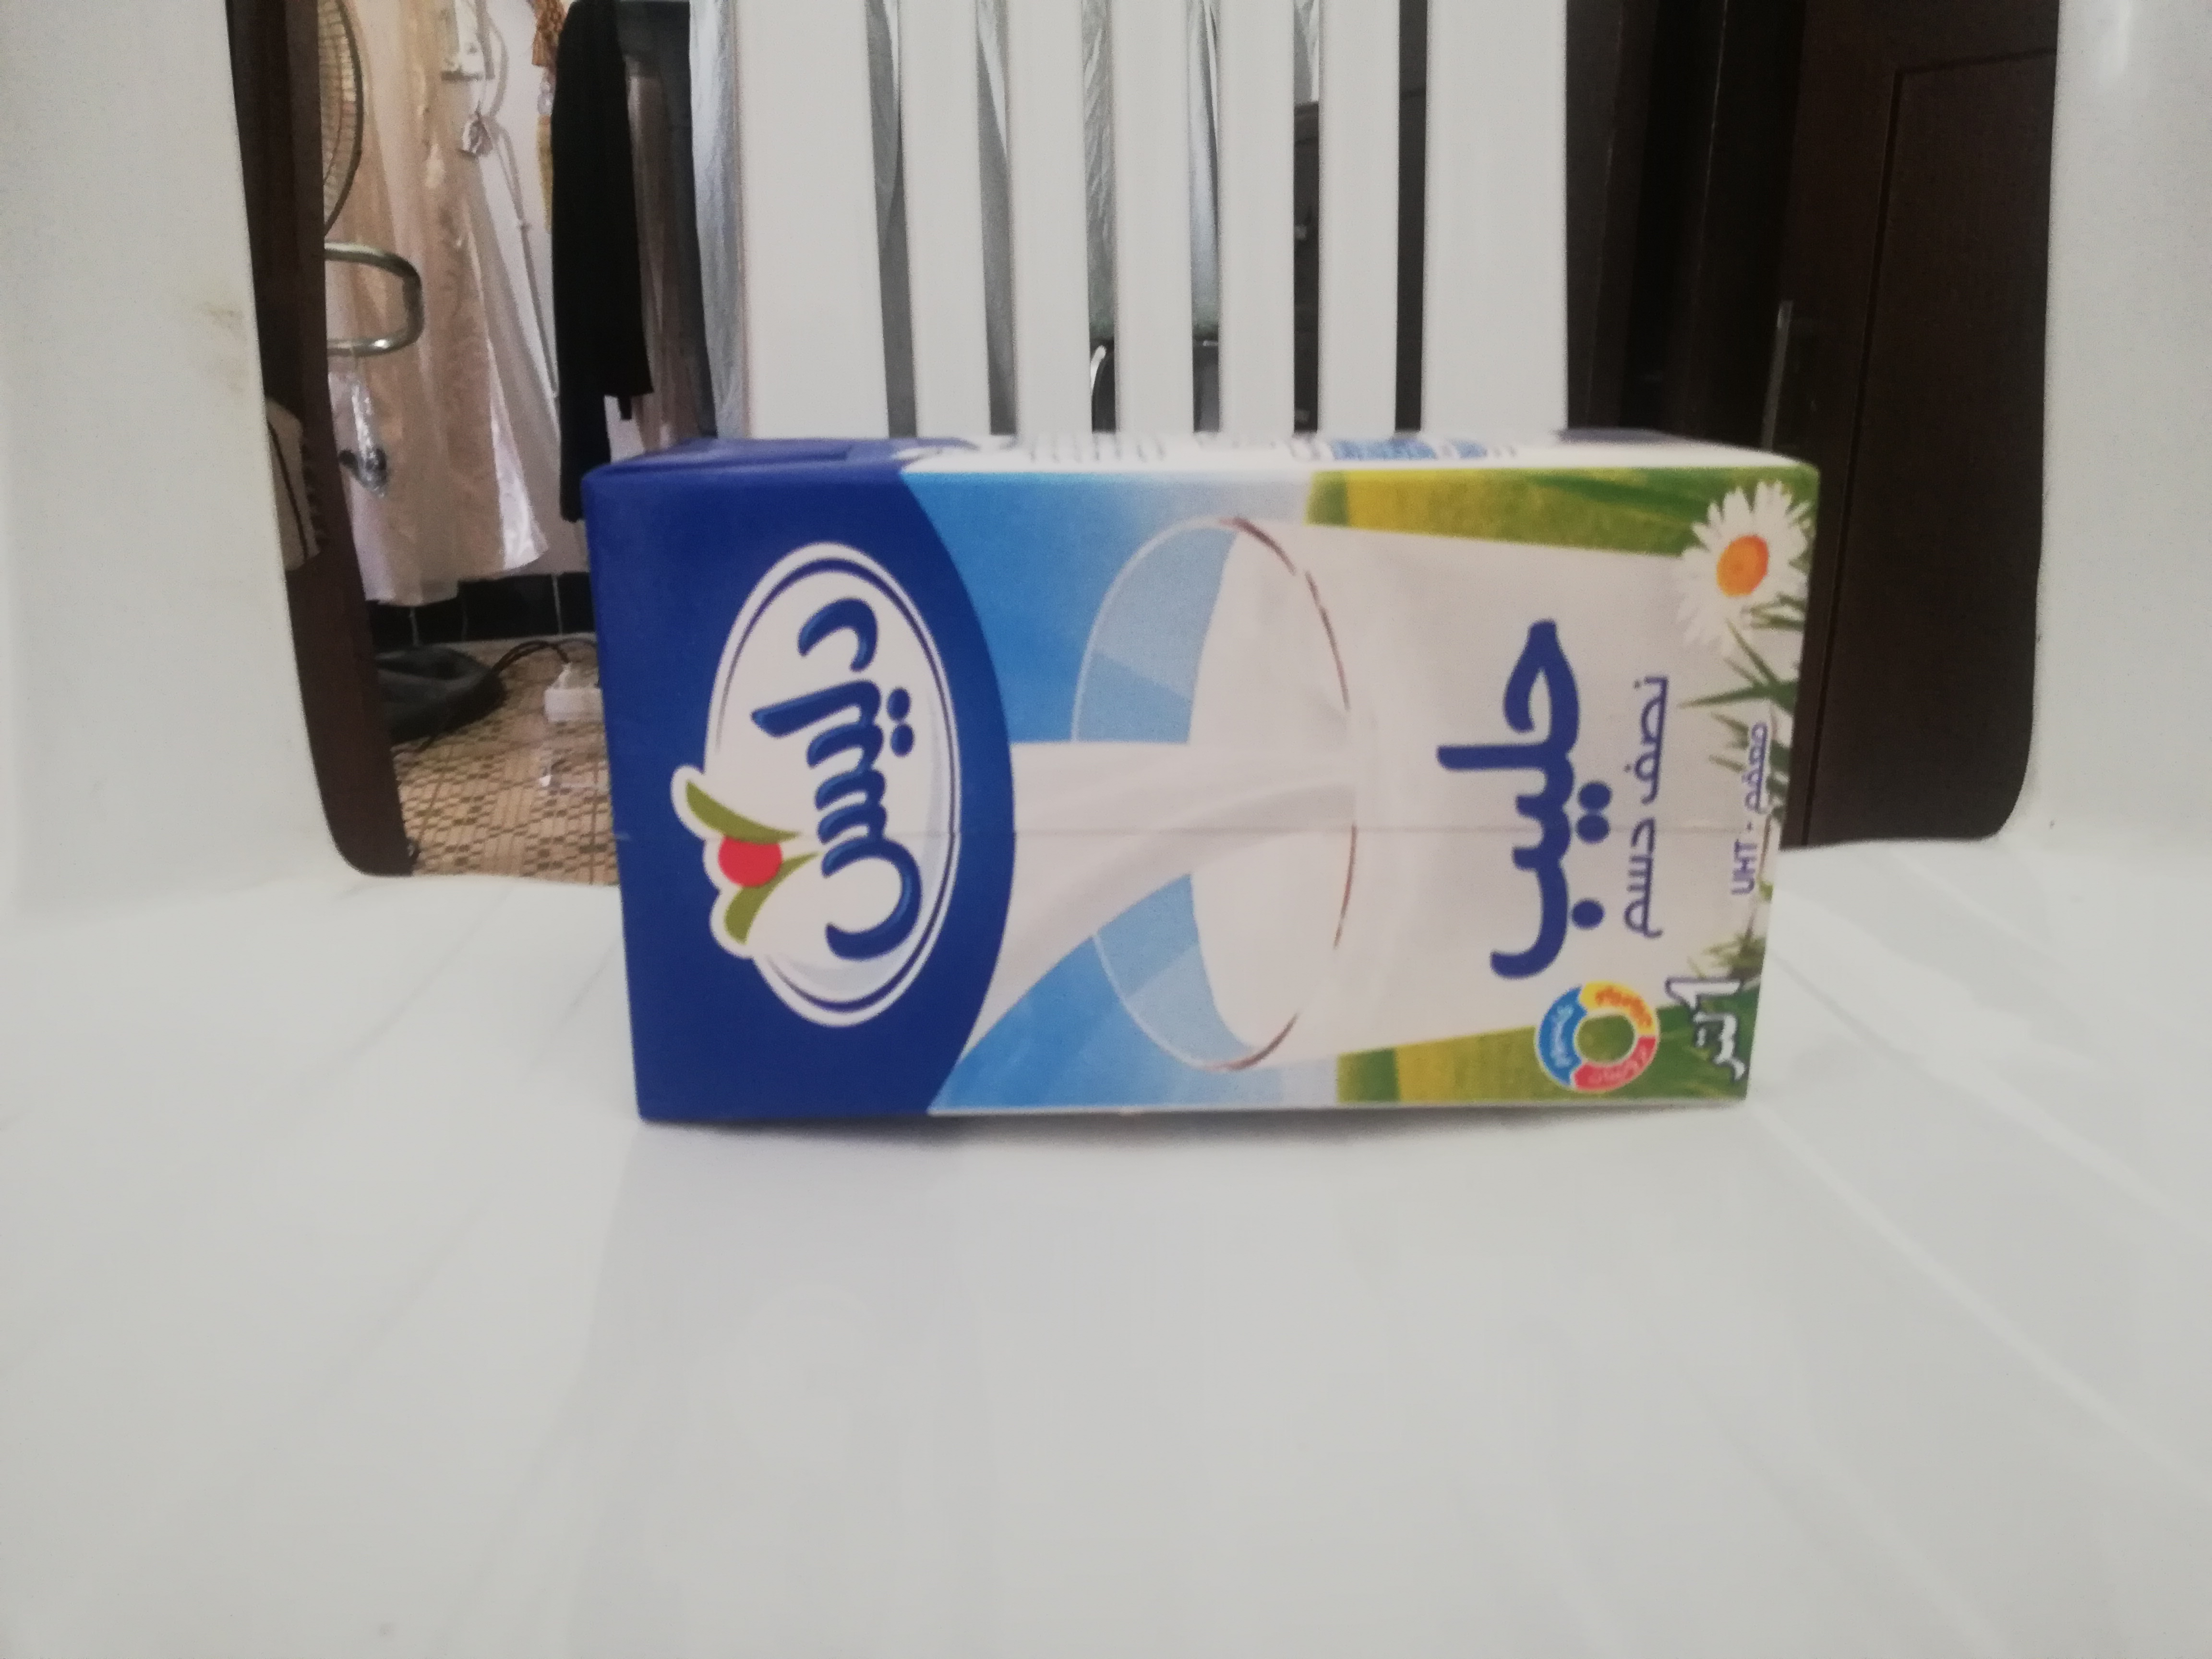Lait delice: (575, 437, 1824, 1129)
